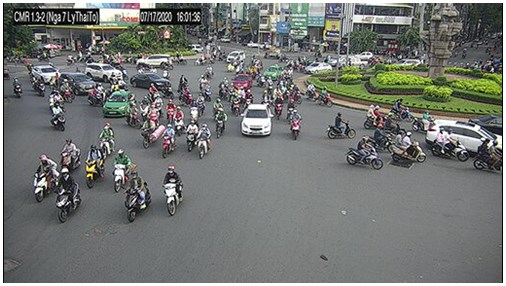xe_hoi: (427, 119, 503, 158), (241, 104, 270, 137), (104, 90, 138, 116), (59, 72, 97, 94), (129, 73, 172, 91), (85, 62, 122, 82), (31, 65, 59, 83), (136, 54, 171, 67), (337, 57, 368, 69), (393, 58, 422, 68), (307, 62, 333, 72), (227, 50, 244, 60)
xe_may: (56, 167, 82, 222), (127, 171, 153, 222), (346, 136, 383, 170), (432, 127, 468, 161), (391, 130, 426, 163), (33, 154, 56, 202), (165, 165, 185, 216), (475, 138, 503, 172), (368, 123, 396, 154), (115, 148, 134, 193), (85, 145, 104, 189), (327, 113, 356, 139), (60, 139, 80, 174), (365, 104, 391, 129), (161, 122, 177, 159), (142, 116, 159, 150), (391, 98, 414, 123), (196, 122, 211, 160), (100, 121, 114, 161), (414, 109, 438, 132), (173, 106, 187, 138), (51, 102, 65, 132), (215, 107, 227, 139), (88, 85, 103, 109), (127, 104, 140, 130), (187, 120, 197, 153), (317, 86, 331, 106), (292, 110, 301, 140), (59, 80, 71, 102), (291, 82, 303, 104), (211, 97, 223, 118), (230, 93, 241, 115), (55, 90, 65, 114), (179, 87, 193, 104), (168, 98, 176, 126), (13, 76, 23, 98), (147, 82, 159, 99), (305, 82, 315, 102), (202, 63, 215, 78), (202, 83, 211, 104), (276, 94, 282, 122), (288, 98, 295, 122), (193, 53, 206, 65), (141, 96, 148, 118), (48, 88, 55, 109), (198, 92, 204, 116), (245, 89, 252, 109), (154, 98, 163, 113), (179, 73, 188, 88), (257, 73, 265, 88), (218, 47, 227, 60), (262, 89, 269, 105), (225, 61, 235, 72), (266, 76, 272, 89)
